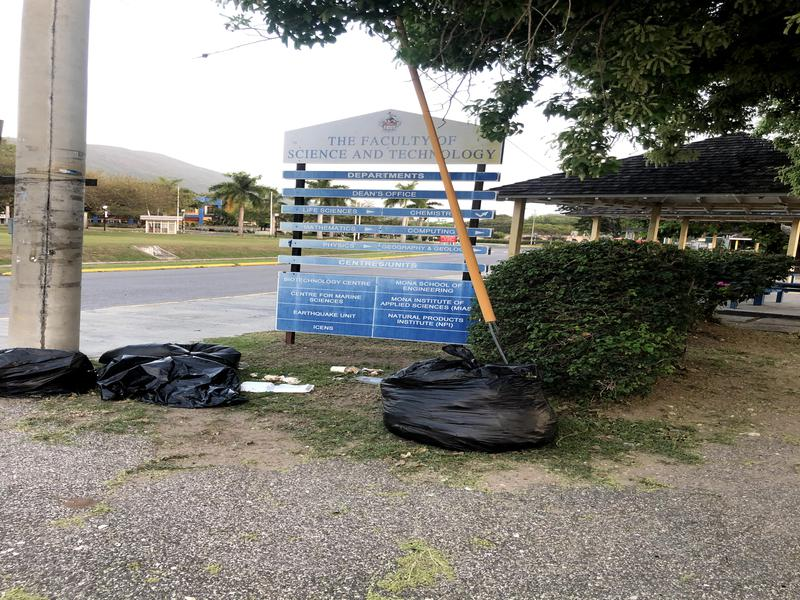18.0055634_-76.7484079_scitechsign: (278, 95, 526, 370)
